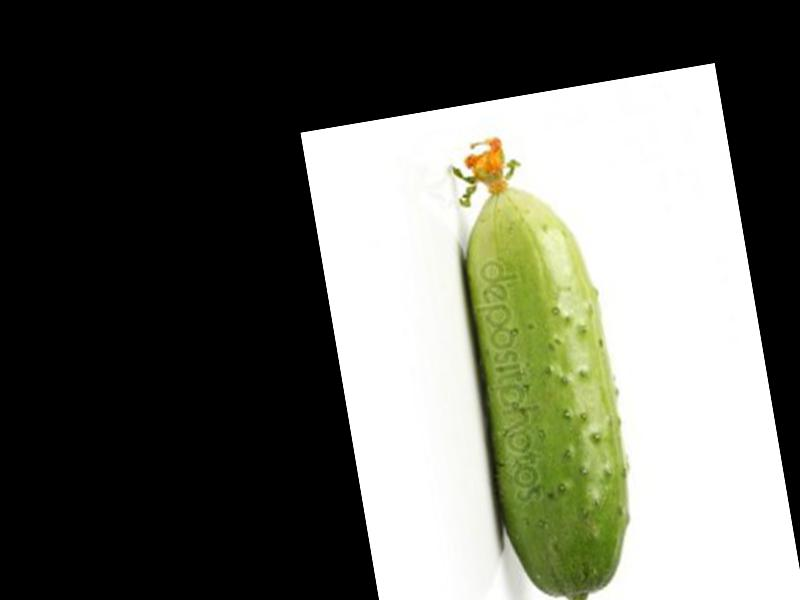Cucumber: (436, 127, 649, 600)
